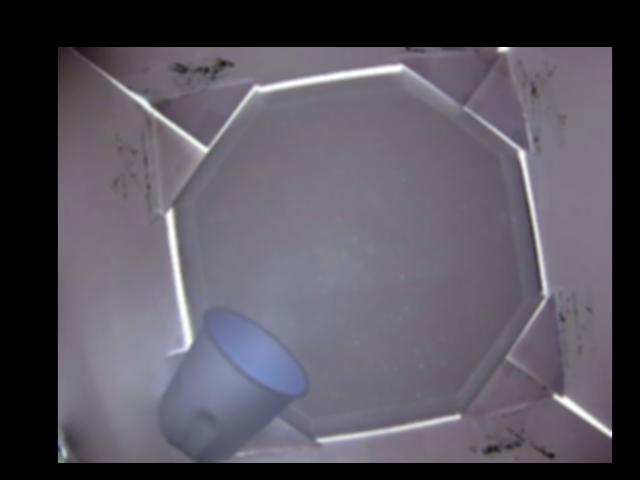Cup: (154, 308, 307, 462)
